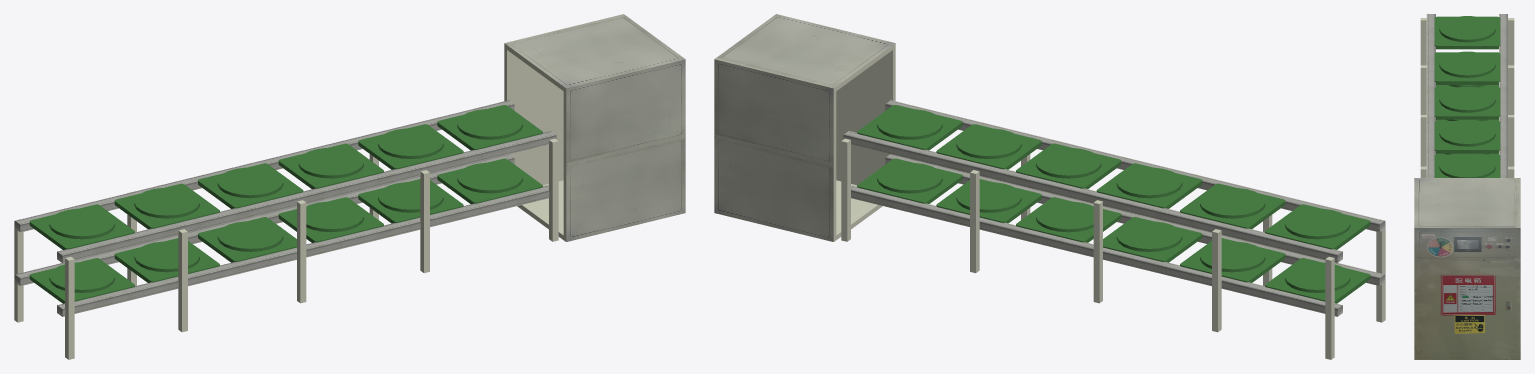
The model's file is 组装线_B1_线头设备1.fbx.
3 renders of one model, left to right at view 1: azimuth 30°, elevation 25°; view 2: azimuth 150°, elevation 25°; view 3: azimuth 270°, elevation 25°, orthographic. The views are drawn at different scales.
Visible parts, largest first — view 1: Line003; view 2: Line003; view 3: Line003.
Part boxes in pixels (left/top/right/bottom): Line003: left=14, top=14, right=685, bottom=359; Line003: left=714, top=14, right=1385, bottom=359; Line003: left=1414, top=14, right=1520, bottom=359.
Bounding box in the file's own units: 127 × 30.37 × 22.16.
5 materials, 5 textured.
